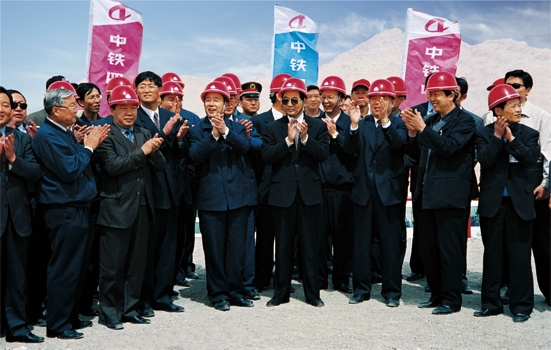none: (44, 87, 79, 127), (75, 80, 102, 116), (503, 68, 532, 99), (135, 73, 162, 105), (7, 86, 28, 126), (239, 84, 261, 114), (1, 83, 12, 128), (304, 84, 321, 113)
red: (488, 85, 523, 125), (427, 72, 457, 113), (109, 86, 138, 127), (279, 77, 308, 115), (319, 77, 346, 112), (201, 81, 228, 116), (369, 80, 395, 116), (214, 77, 237, 114), (386, 76, 409, 109), (159, 80, 183, 110), (349, 77, 371, 108), (269, 74, 290, 103)
